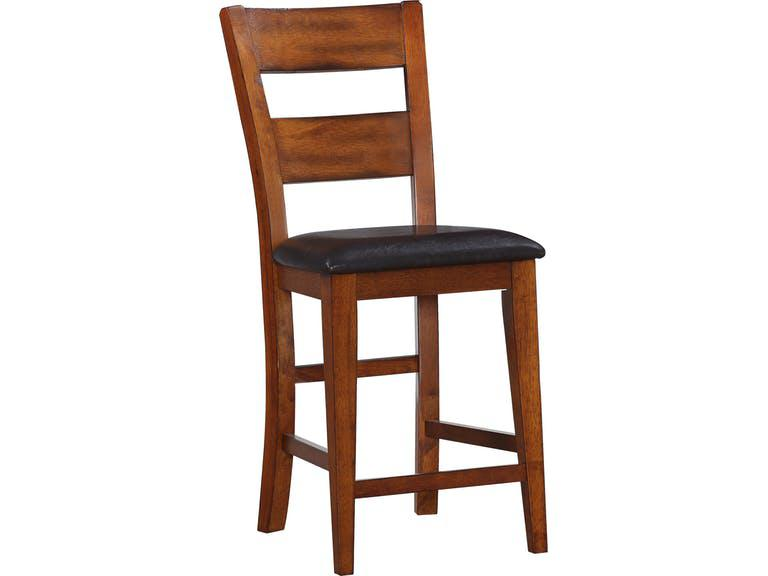chair: (192, 3, 621, 576)
